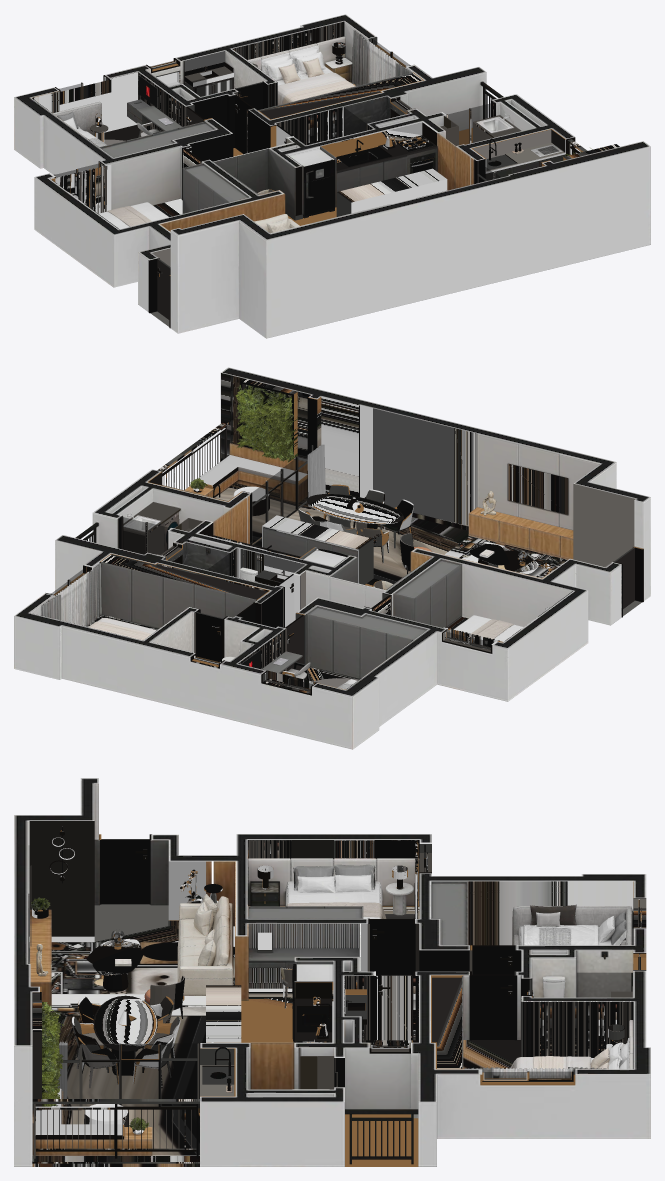
The model's file is apartment_floor_plan (1) (1).glb.
3 renders of one model, top to bottom at view 1: azimuth 30°, elevation 25°; view 2: azimuth 150°, elevation 25°; view 3: azimuth 270°, elevation 25°, orthographic. The views are drawn at different scales.
Parts seen in each view (by area): view 1: rendertotexture_0, moveis_2, vidro_7, metais_9, espelho_5; view 2: rendertotexture_0, espelho_5, vidro_7, plantas_8, moveis_2, cortina_1; view 3: rendertotexture_0, moveis_2, vidro_7, plantas_8, metais_9.
Boxes of the visible parts, bbox=[...] form: rendertotexture_0: bbox=[14, 14, 650, 338]; moveis_2: bbox=[53, 45, 355, 233]; vidro_7: bbox=[55, 39, 500, 182]; metais_9: bbox=[350, 114, 562, 166]; espelho_5: bbox=[184, 51, 494, 198]; rendertotexture_0: bbox=[14, 367, 650, 749]; espelho_5: bbox=[157, 408, 454, 647]; vidro_7: bbox=[52, 446, 527, 689]; plantas_8: bbox=[189, 385, 298, 489]; moveis_2: bbox=[88, 491, 523, 689]; cortina_1: bbox=[307, 444, 325, 507]; rendertotexture_0: bbox=[14, 778, 650, 1166]; moveis_2: bbox=[36, 864, 633, 1069]; vidro_7: bbox=[58, 900, 630, 1106]; plantas_8: bbox=[30, 897, 149, 1130]; metais_9: bbox=[210, 1003, 331, 1089].
Bounding box in the file's own units: 10.72 × 2.3 × 10.74.
9 materials, 4 textured.
